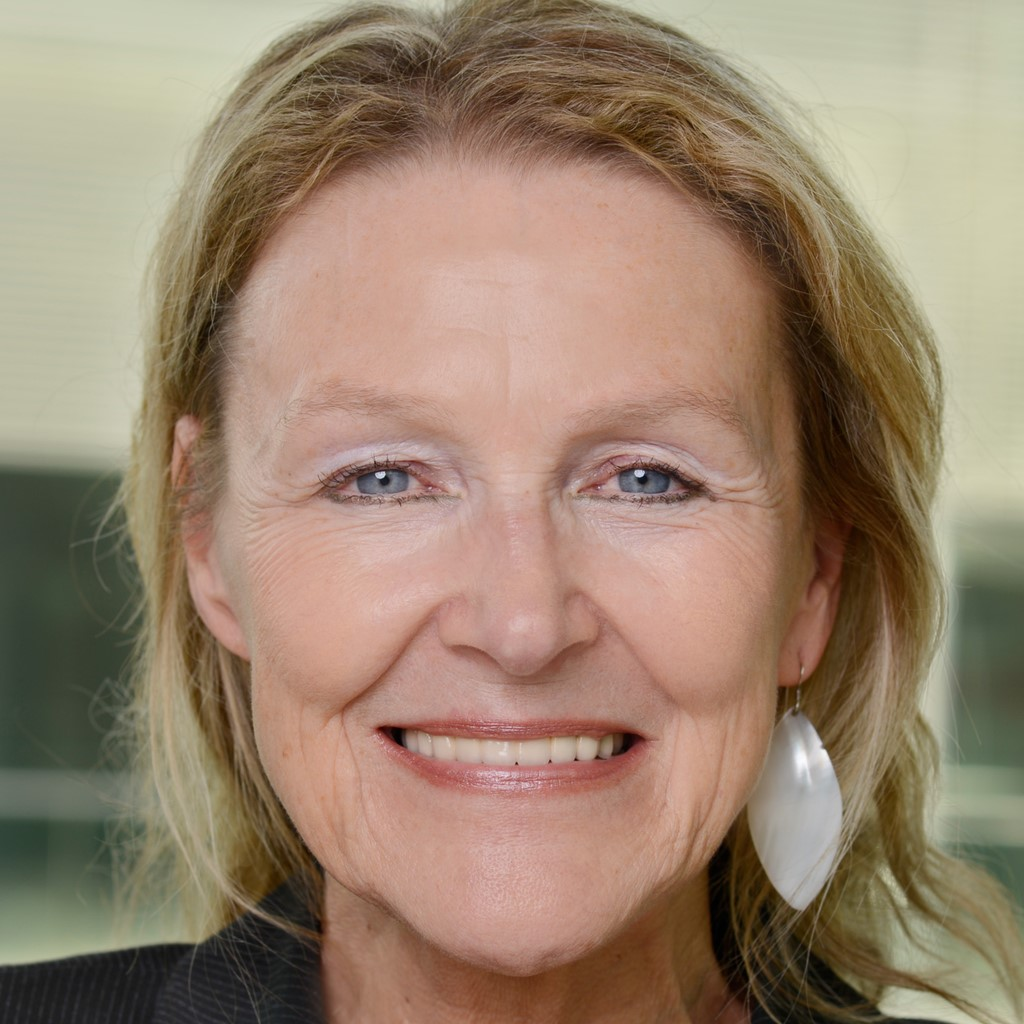sin_mascara: (192, 148, 831, 944)
